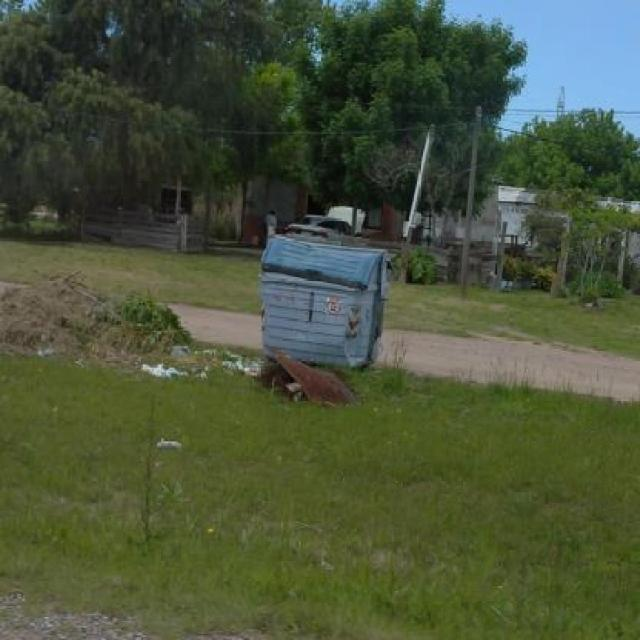garbage: (45, 266, 341, 414)
